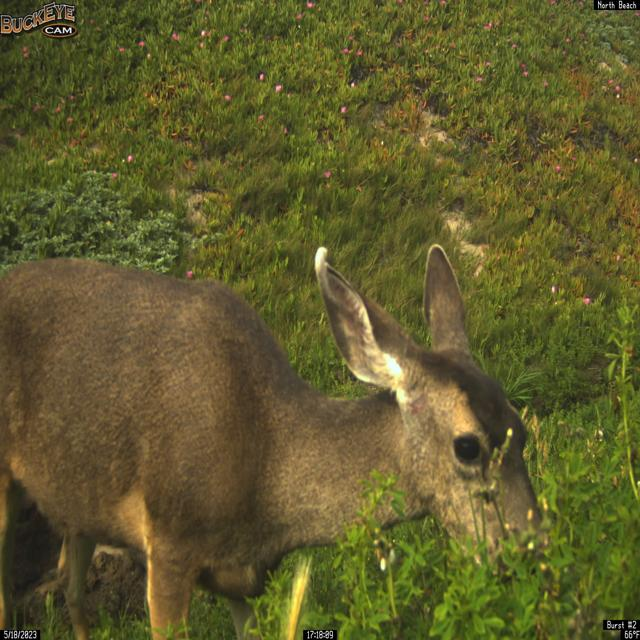deer: (0, 242, 547, 640)
